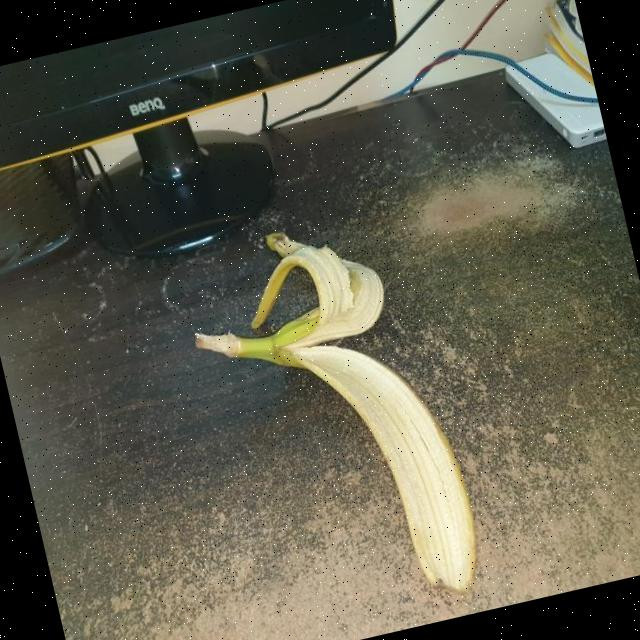banana-peel: (172, 200, 490, 640)
